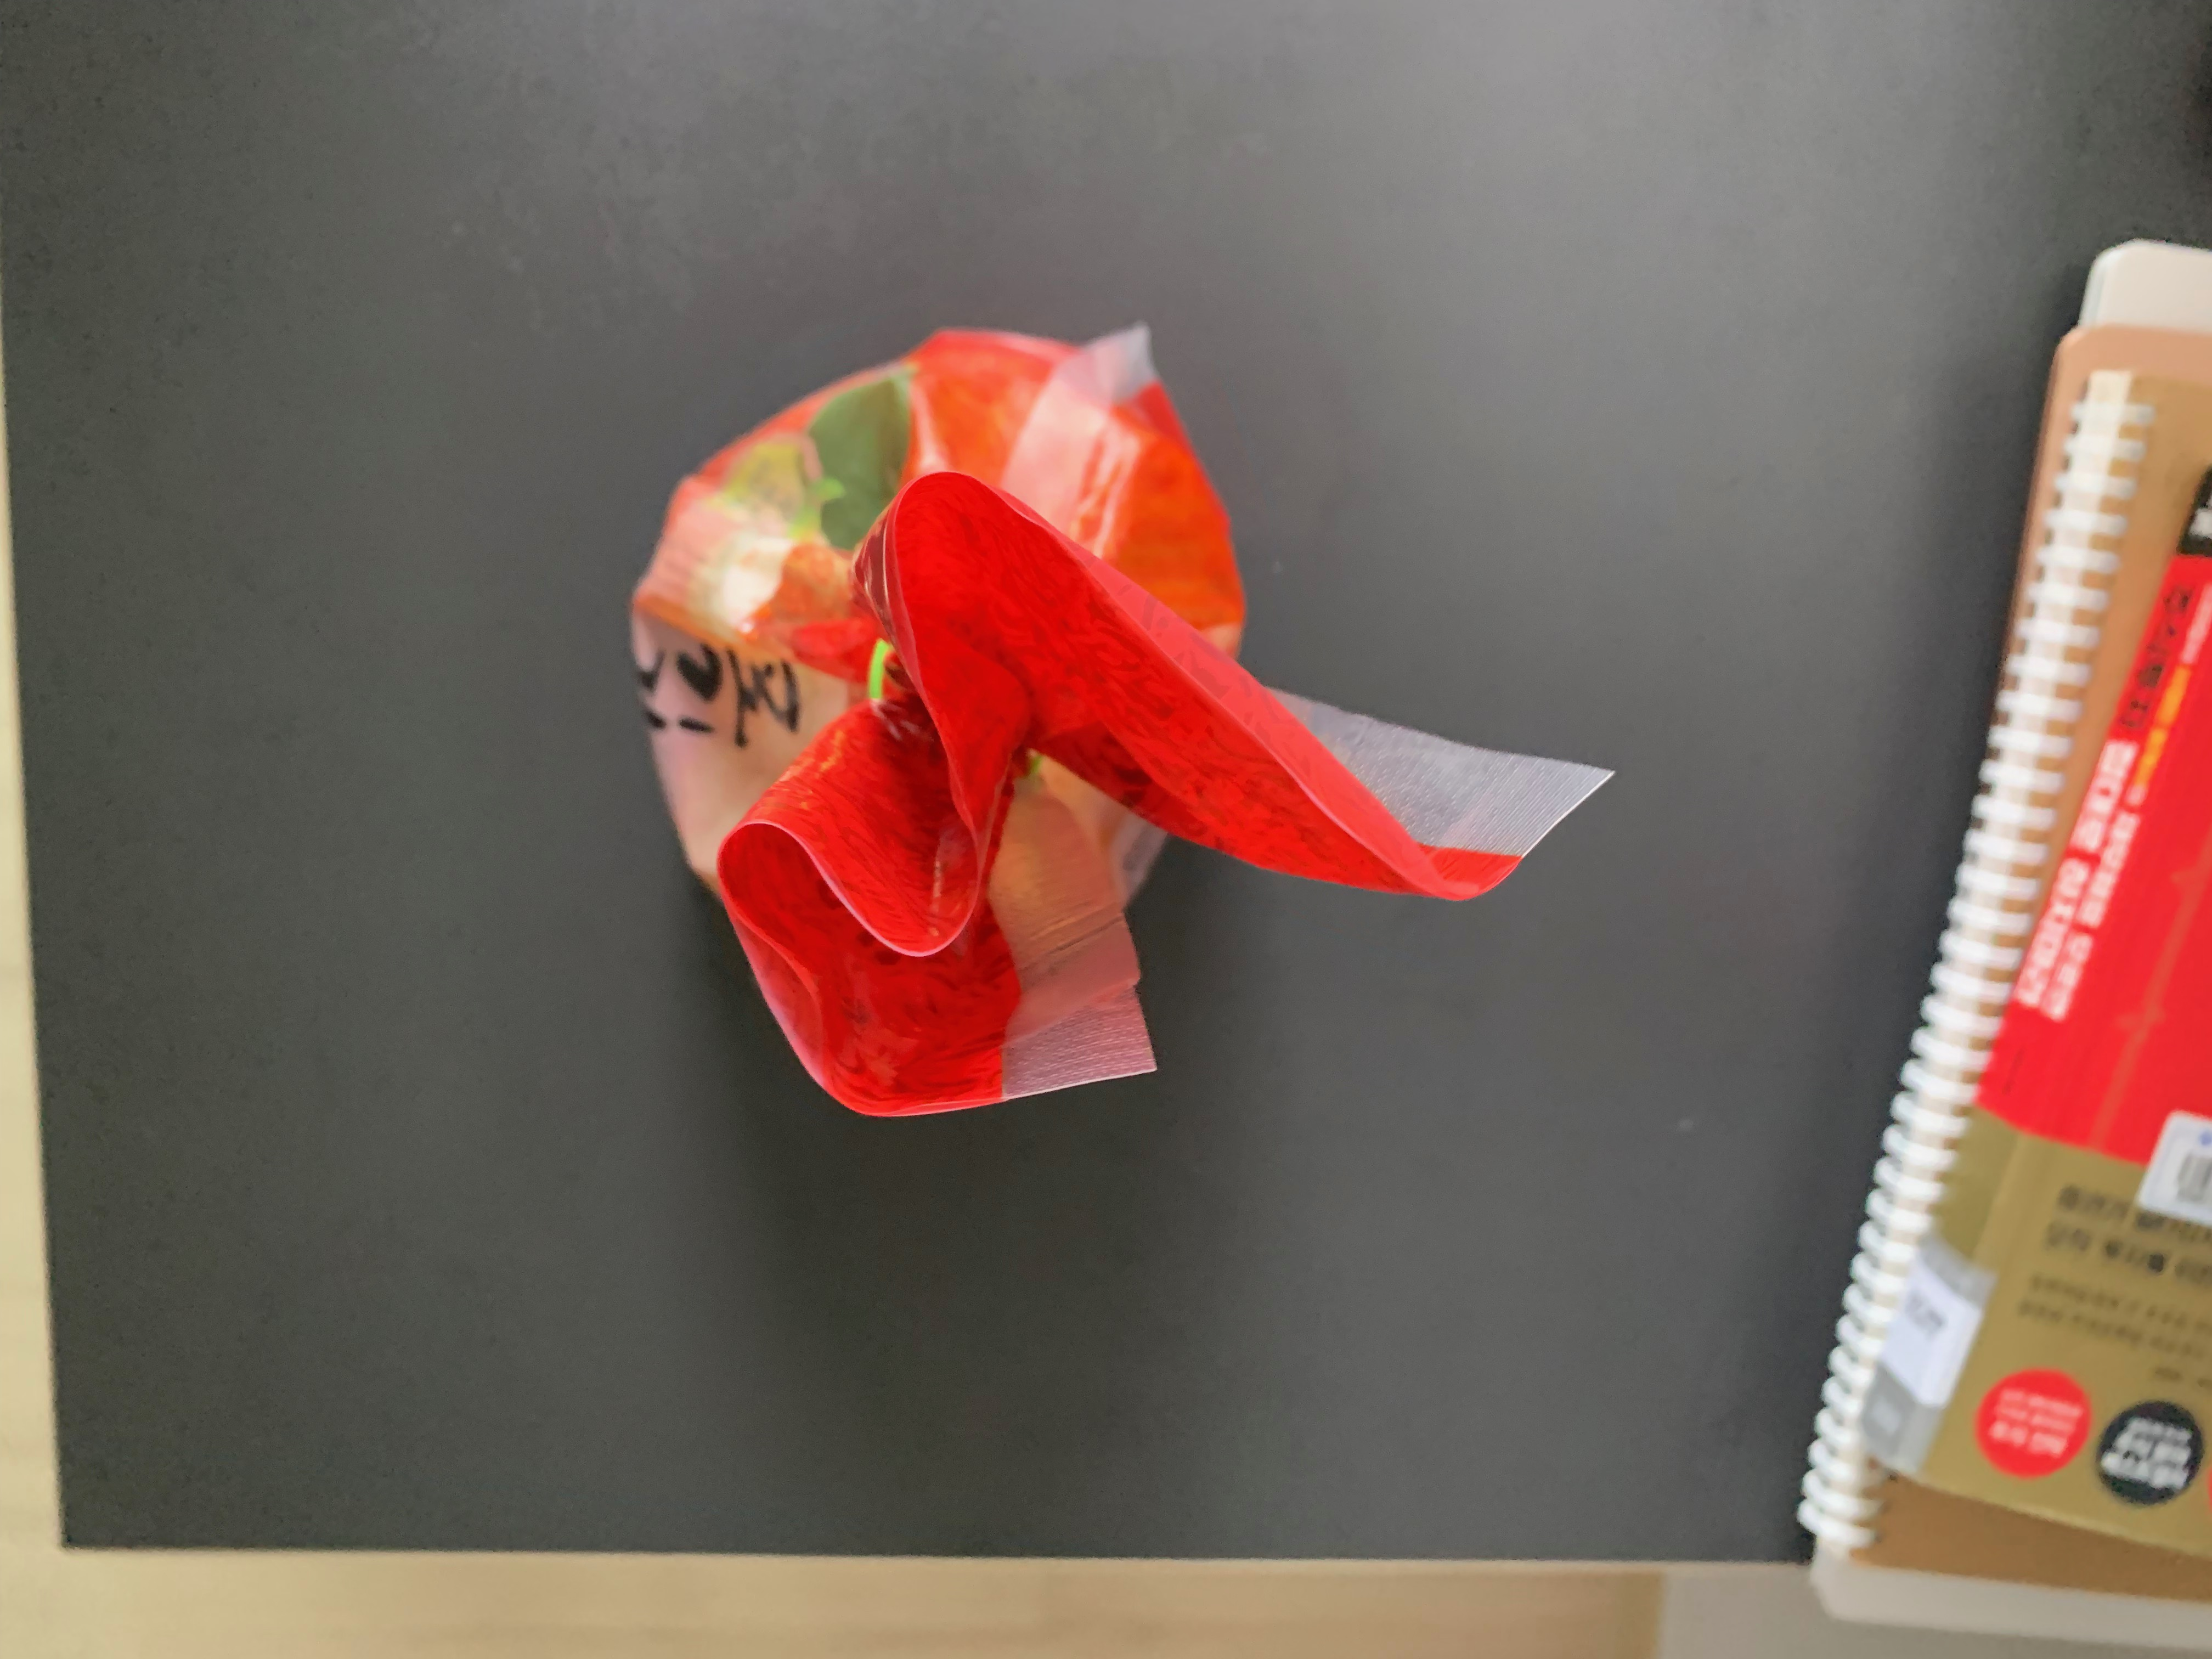kimchi: (627, 322, 1501, 1115)
